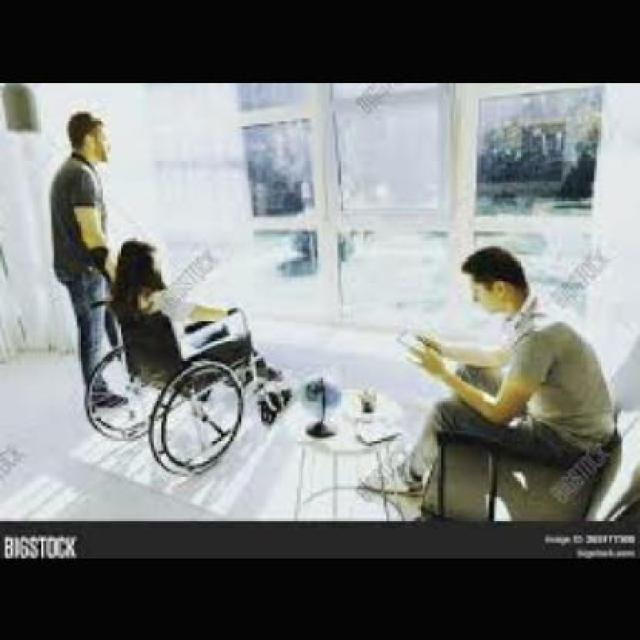wheelchairs: (80, 300, 266, 476)
